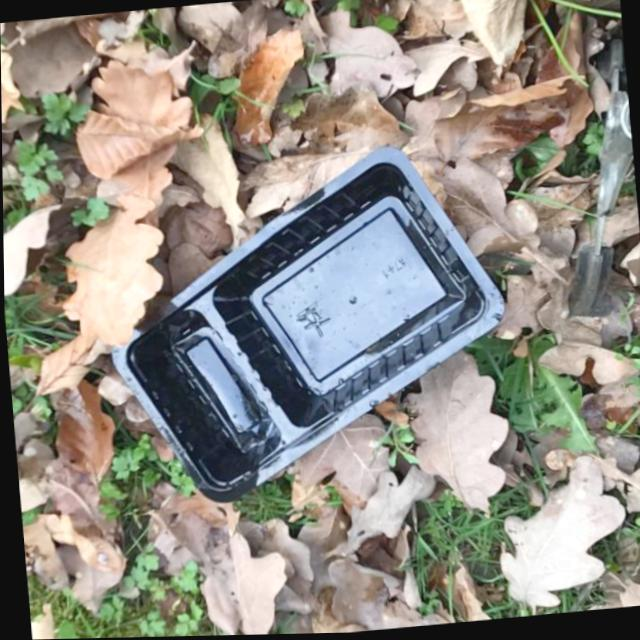Plastic: (91, 132, 522, 513)
